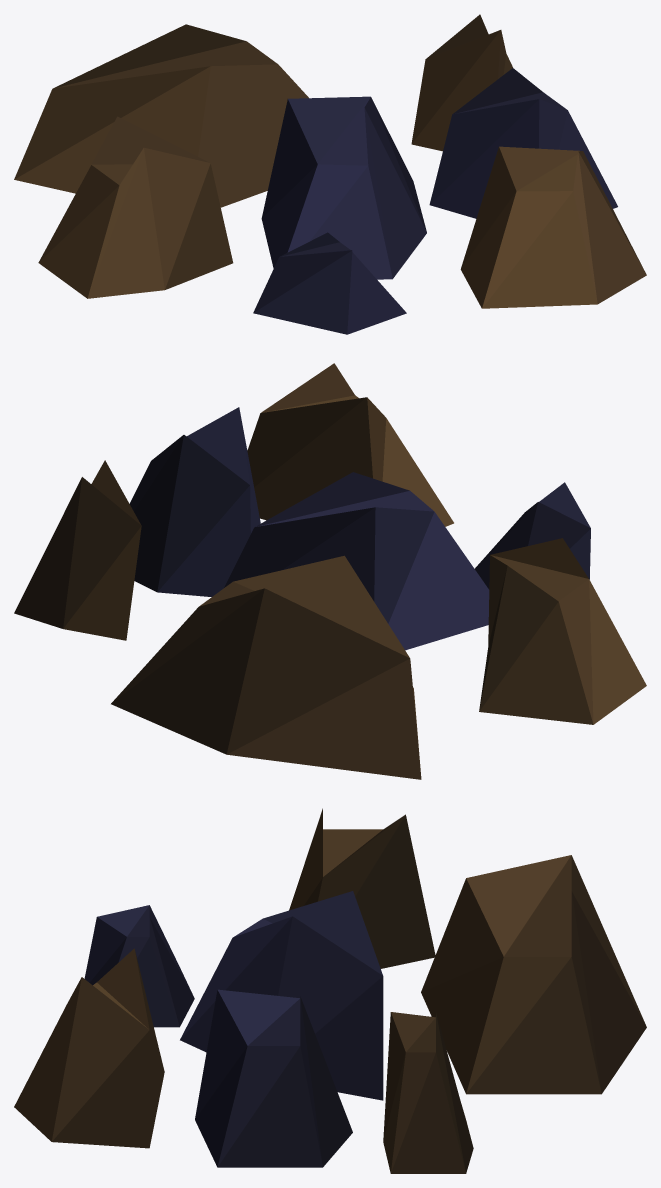
File: mithril-ore.obj
3 renders of one model, top to bottom at view 1: azimuth 30°, elevation 25°; view 2: azimuth 150°, elevation 25°; view 3: azimuth 270°, elevation 25°, orthographic. The views are drawn at different scales.
Parts seen in each view (by area): view 1: Item Mithril ore 2026-09-12_21-08-50; view 2: Item Mithril ore 2026-09-12_21-08-50; view 3: Item Mithril ore 2026-09-12_21-08-50.
Part boxes in pixels (box(x1,y1,x2,y2)): Item Mithril ore 2026-09-12_21-08-50: box(14, 14, 646, 334); Item Mithril ore 2026-09-12_21-08-50: box(14, 363, 646, 779); Item Mithril ore 2026-09-12_21-08-50: box(14, 808, 646, 1173).
Bounding box in the file's own units: 83 × 20 × 84.
